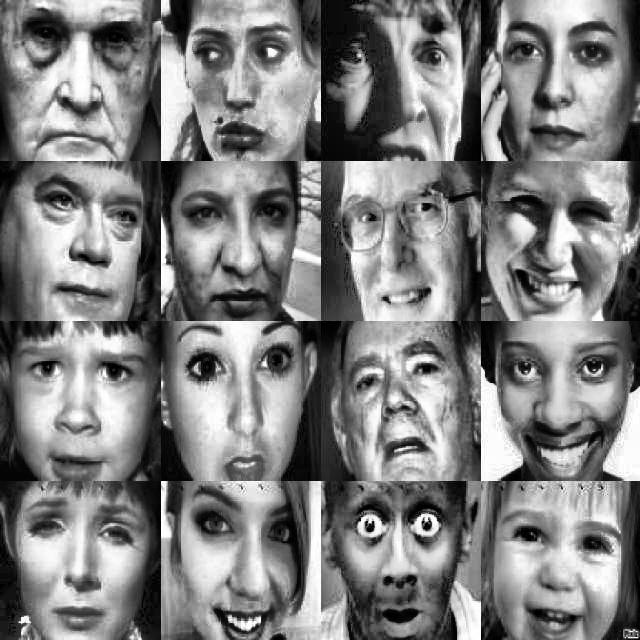angry: (26, 178, 155, 310)
fear: (329, 3, 465, 155), (320, 490, 460, 628)
happy: (508, 331, 637, 483), (487, 494, 623, 638), (339, 182, 476, 320), (493, 179, 630, 310), (180, 495, 304, 639)
neutral: (173, 324, 322, 480), (11, 0, 151, 152), (494, 11, 634, 148), (184, 10, 318, 152), (186, 175, 318, 307)
sad: (15, 491, 139, 634), (27, 335, 145, 475)
